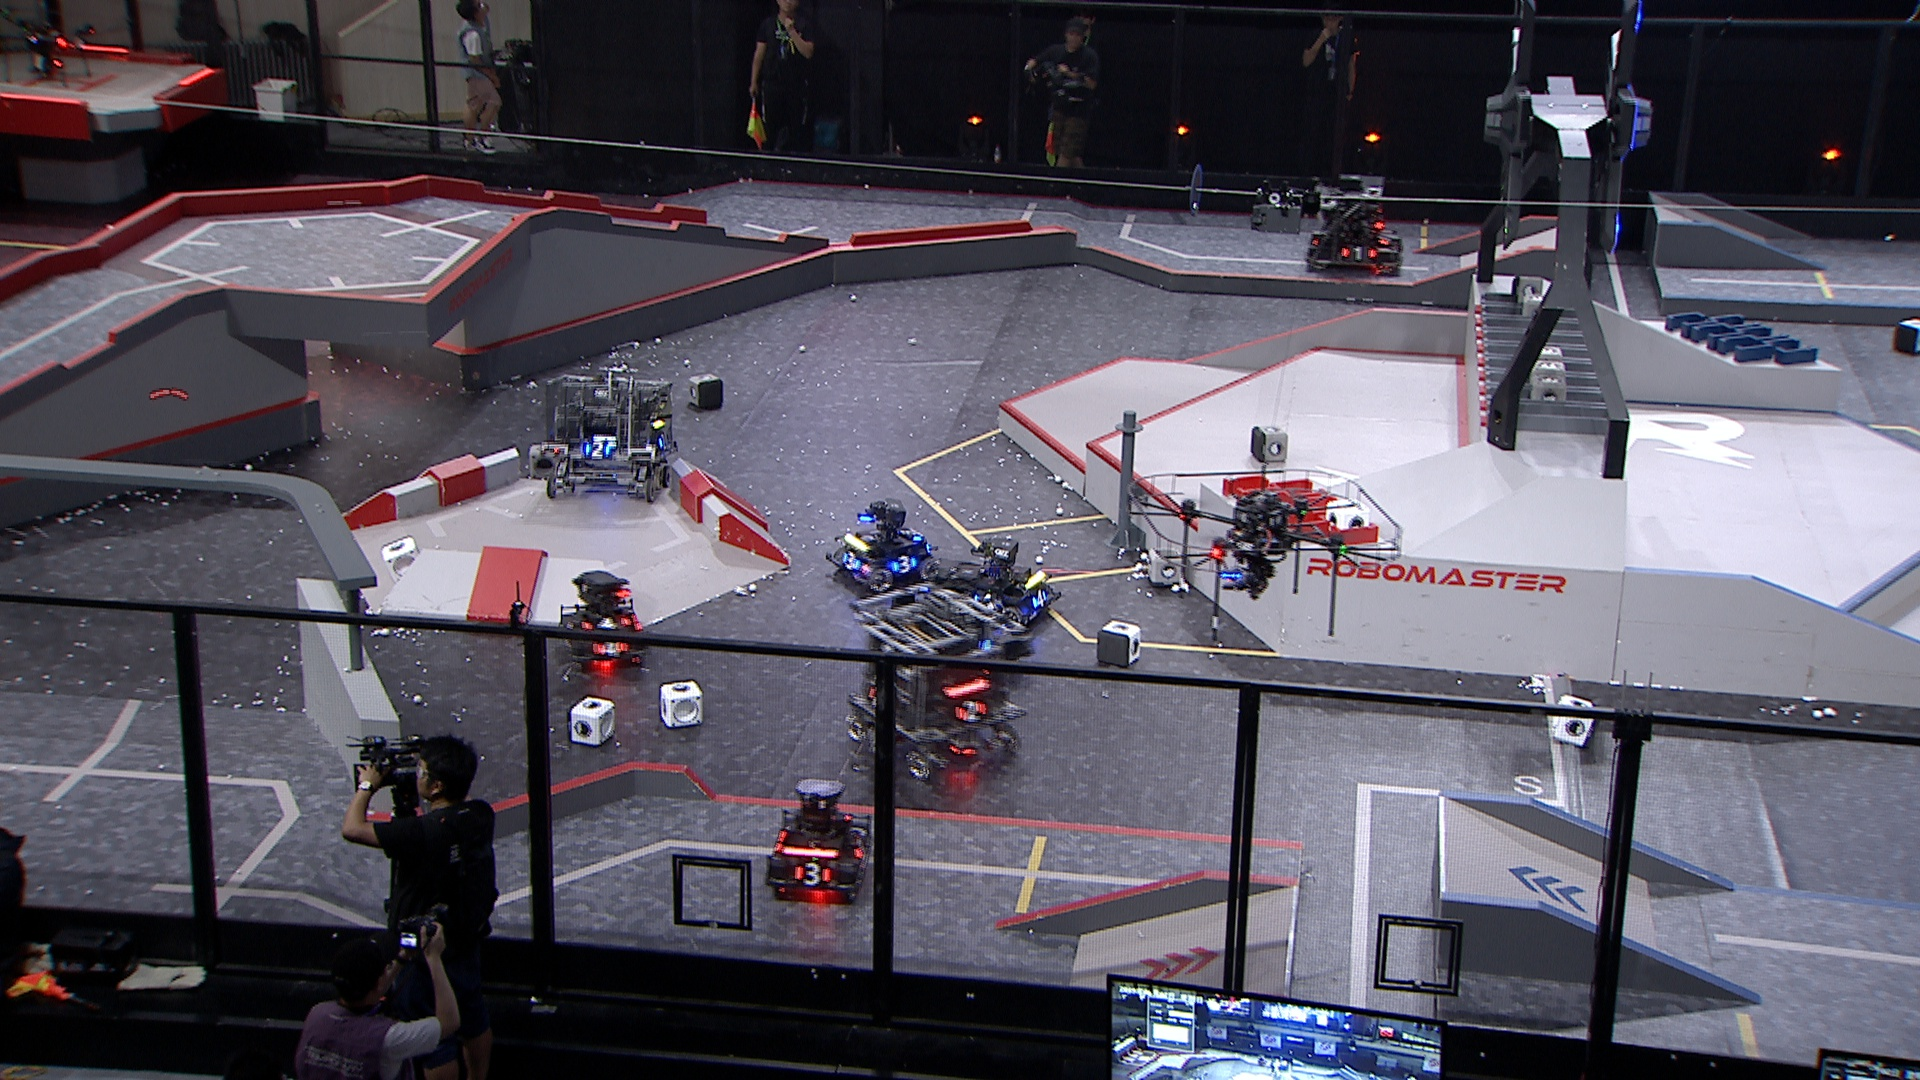armor: (793, 861, 831, 891), (1337, 243, 1377, 262), (953, 699, 986, 723), (889, 553, 920, 575), (591, 637, 629, 655), (580, 616, 632, 629), (584, 439, 613, 462), (894, 524, 924, 545), (839, 551, 861, 572), (1030, 589, 1048, 611), (855, 835, 869, 861), (1375, 229, 1395, 245), (657, 431, 670, 451)
car: (843, 582, 1029, 779), (535, 371, 683, 504), (760, 774, 872, 901), (939, 534, 1060, 633), (823, 495, 940, 589), (1304, 171, 1403, 273), (553, 568, 647, 671)
